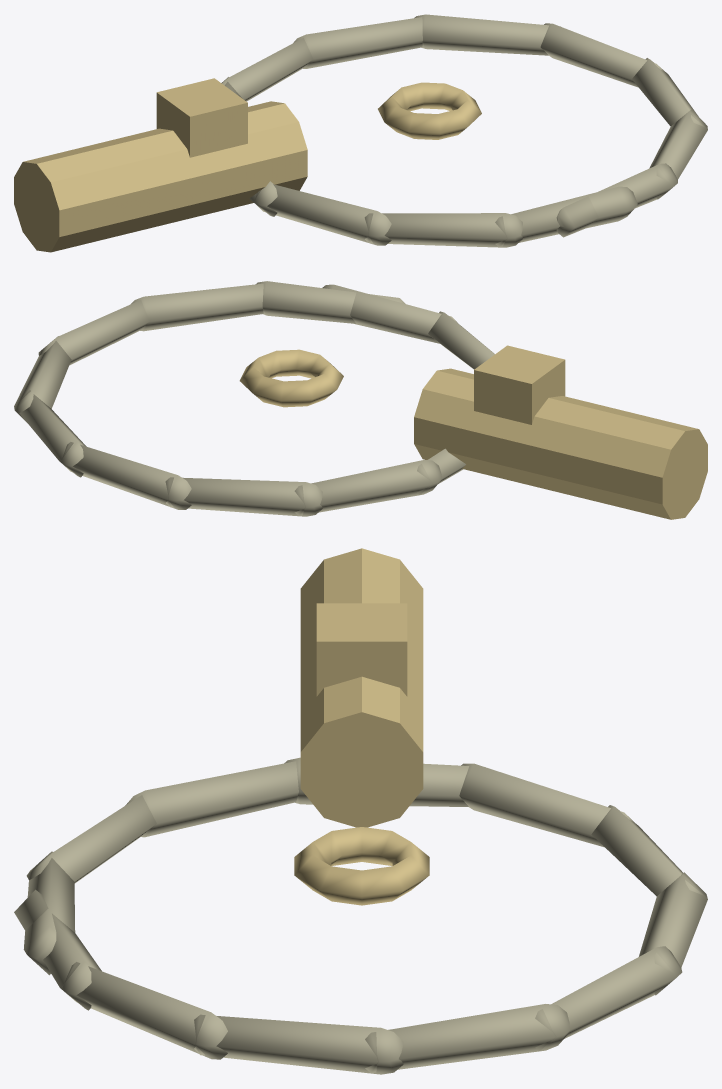
File: trench-line-1917-whistle-f0010056__24112.glb
The picture shows the model from 3 angles, top to bottom: view 1: azimuth 30°, elevation 25°; view 2: azimuth 150°, elevation 25°; view 3: azimuth 270°, elevation 25°; orthographic projection. The views are drawn at different scales.
Visible parts, largest first — view 1: whistle; view 2: whistle; view 3: whistle.
Part boxes in pixels (bbox=[...]): whistle: bbox=[14, 14, 707, 252]; whistle: bbox=[14, 281, 707, 519]; whistle: bbox=[14, 548, 707, 1074].
Bounding box in the file's own units: 0.1538 × 0.026 × 0.1074.
